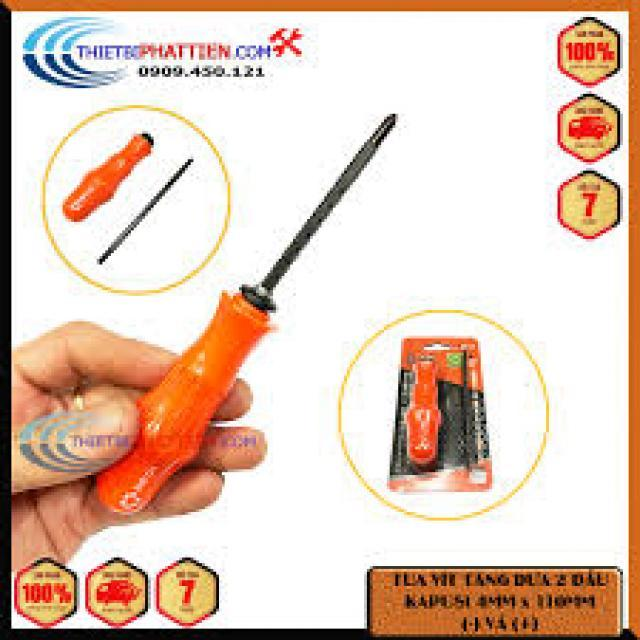screwdriver: (95, 102, 414, 512)
